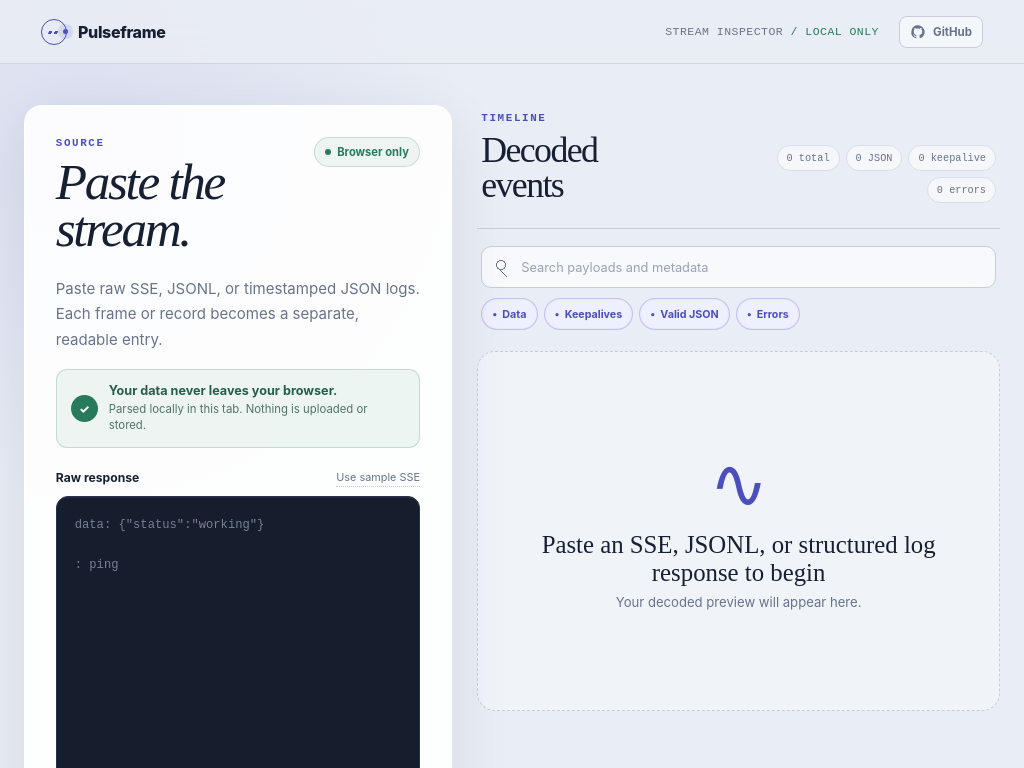
it: App › loads an example and renders data events and keepalives separately
Click the button "Use sample SSE" at (378, 477), box [336,468,420,486]
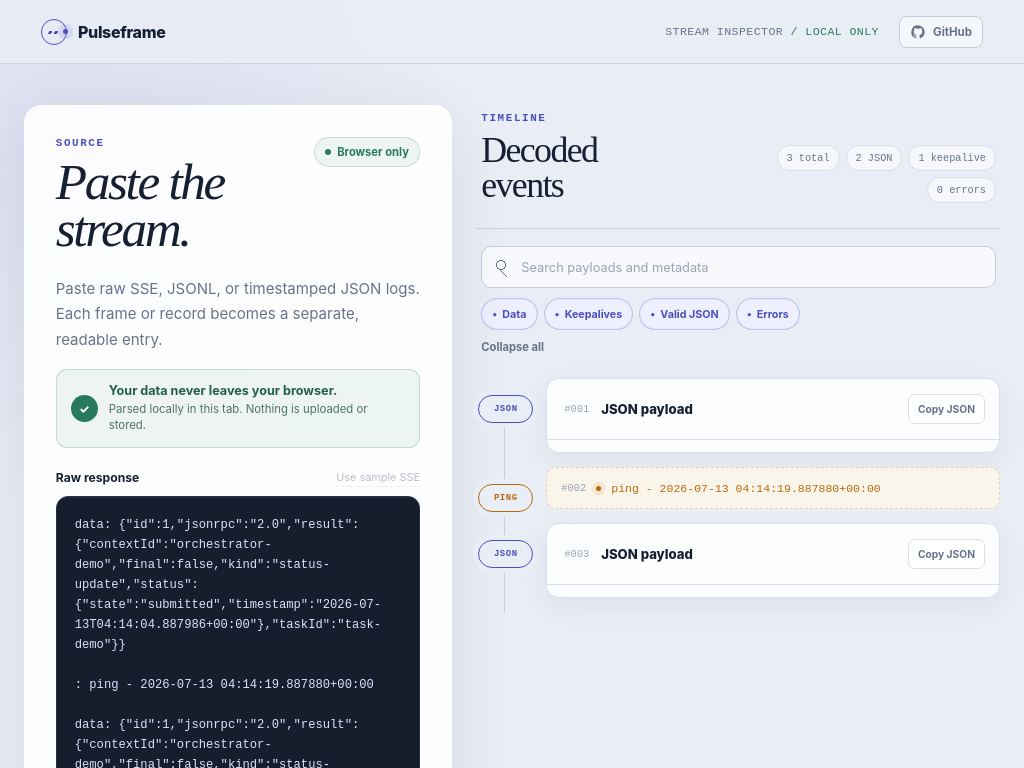
Now the text "3 total" is shown, box [776,145,840,171]
Now the text "2 JSON" is shown, box [846,145,902,171]
Now the text "1 keepalive" is shown, box [908,145,996,171]
